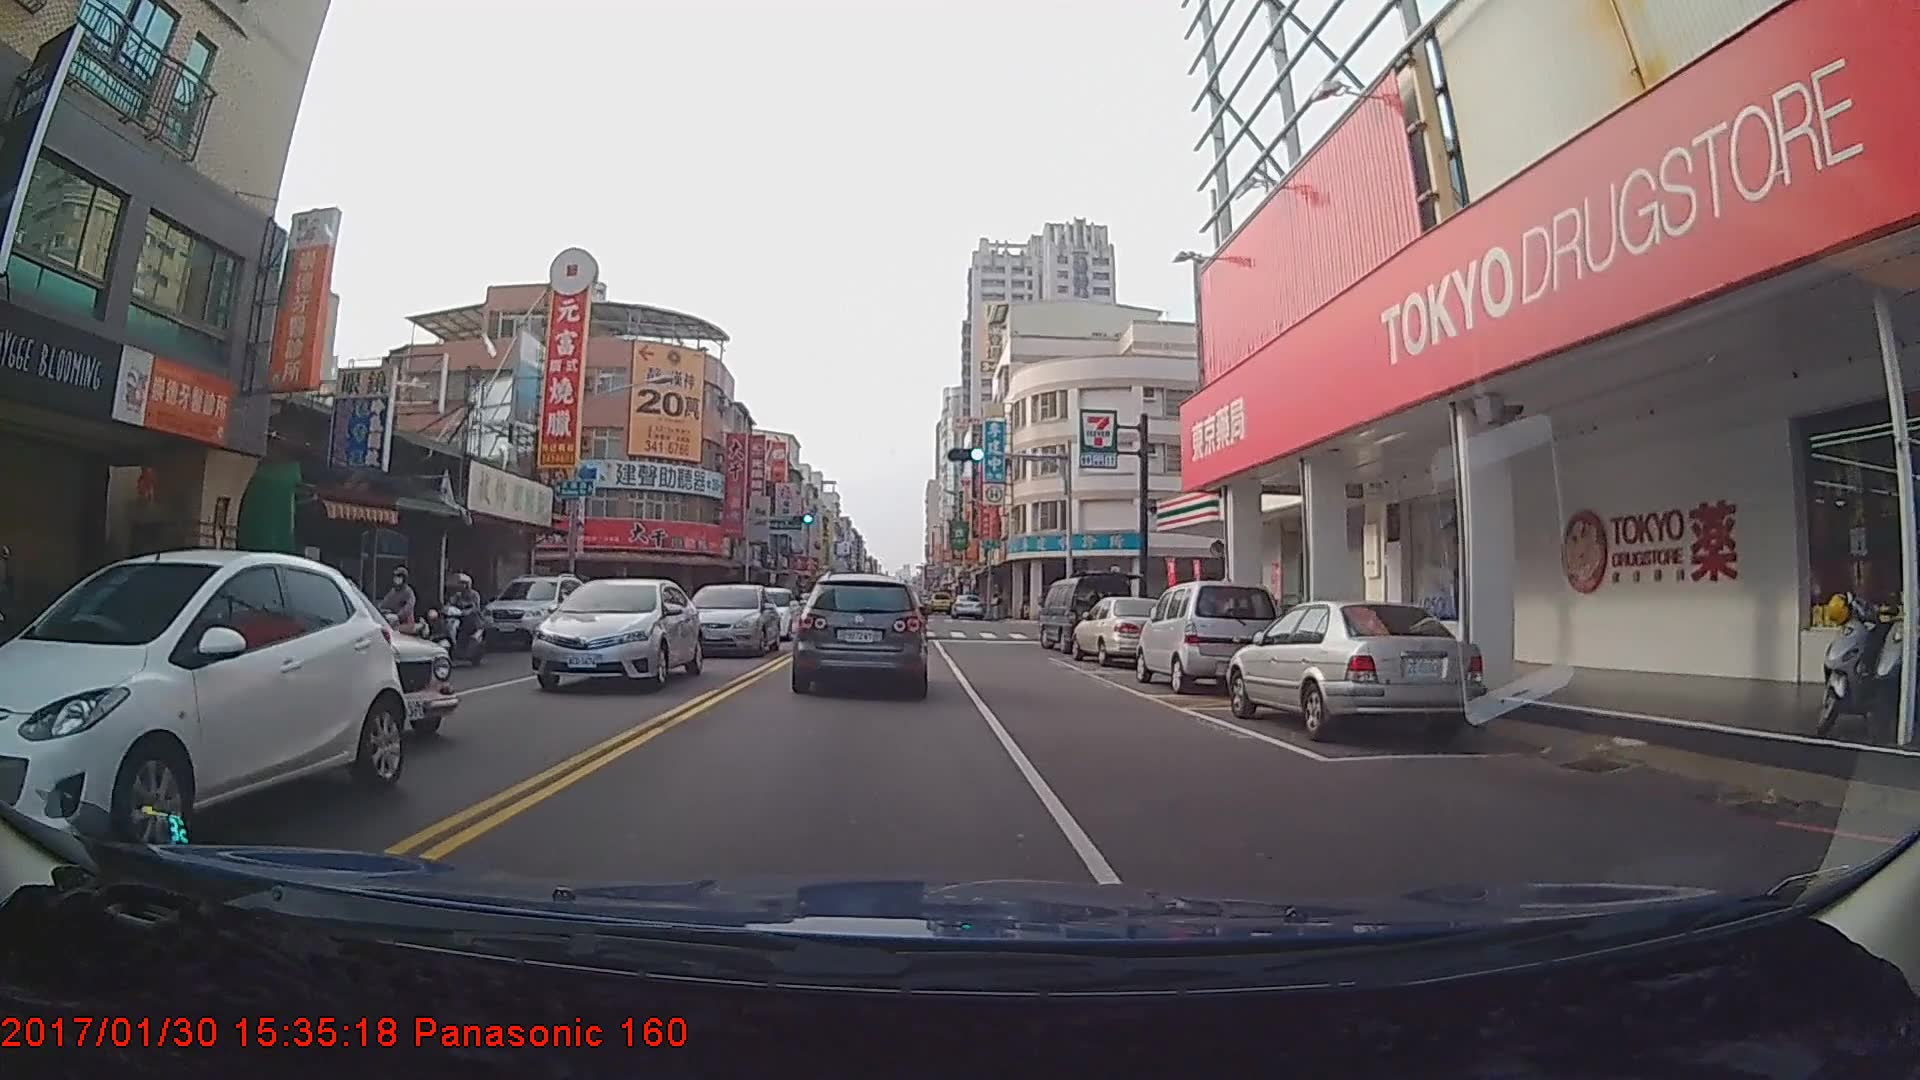rider: (1, 549, 34, 722), (433, 571, 484, 661)
vehicle: (0, 546, 405, 857), (1228, 598, 1484, 745), (521, 580, 692, 699), (1136, 584, 1283, 696), (797, 572, 926, 693), (479, 572, 586, 650), (1070, 595, 1181, 666), (681, 581, 779, 658), (1039, 575, 1132, 655), (734, 586, 796, 643), (948, 592, 984, 617)
